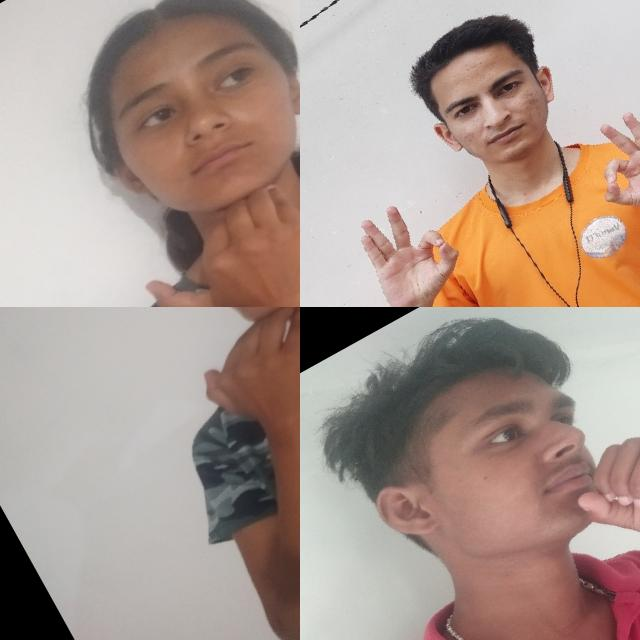Chin Flick: (9, 0, 300, 307), (72, 307, 300, 471)
Fist Mouth: (305, 307, 640, 640)
Okay: (336, 175, 478, 307), (566, 88, 640, 239)
